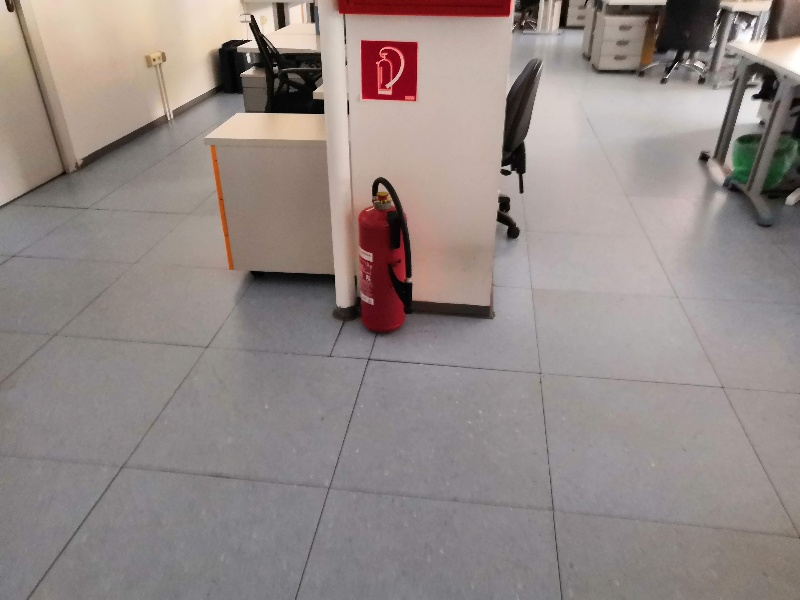vataparat: (354, 177, 414, 332)
